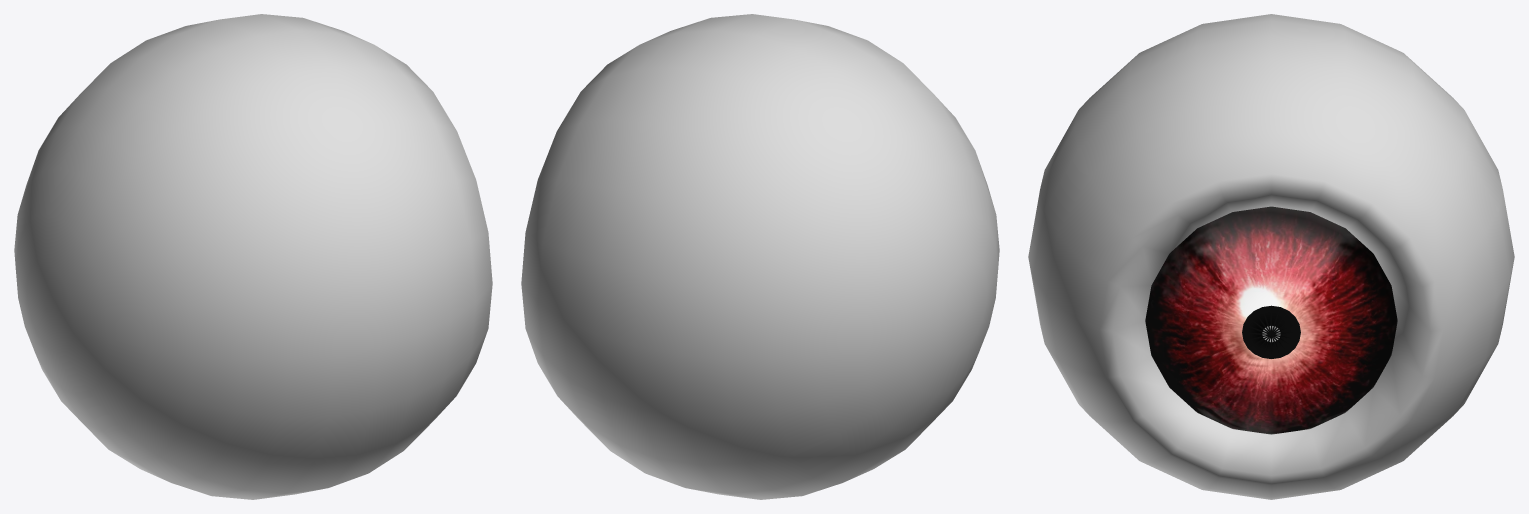
Rendered from Ojo.fbx.
The picture shows the model from 3 angles, left to right: view 1: azimuth 30°, elevation 25°; view 2: azimuth 150°, elevation 25°; view 3: azimuth 270°, elevation 25°; orthographic projection.
Parts seen in each view (by area): view 1: Ojo; view 2: Ojo; view 3: Ojo.
Part boxes in pixels (x1=…): Ojo: x1=14, y1=14, x2=492, y2=499; Ojo: x1=521, y1=14, x2=999, y2=499; Ojo: x1=1028, y1=14, x2=1514, y2=499.
Bounding box in the file's own units: 0.1537 × 0.1755 × 0.1755.
